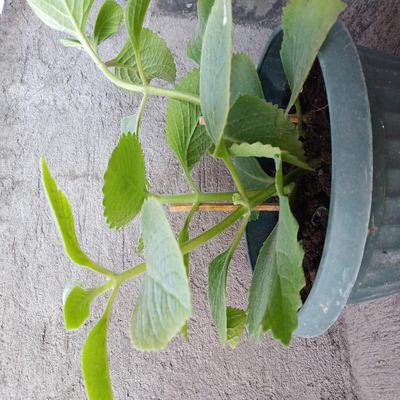Oregano: (48, 20, 312, 360)
